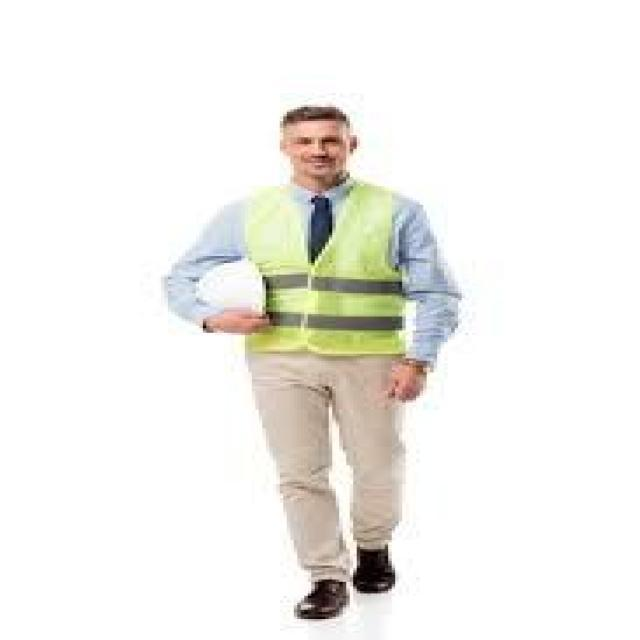safety_helmet: (235, 182, 412, 355)
